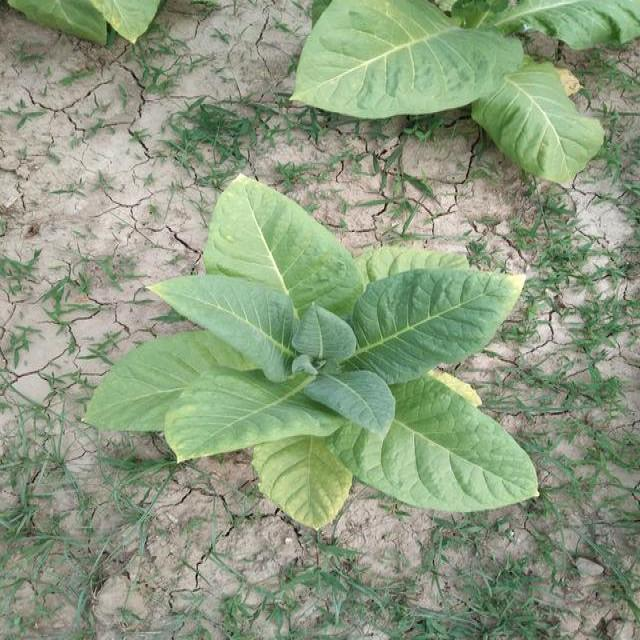crop: (99, 182, 548, 528), (288, 0, 628, 174), (10, 0, 179, 45)
